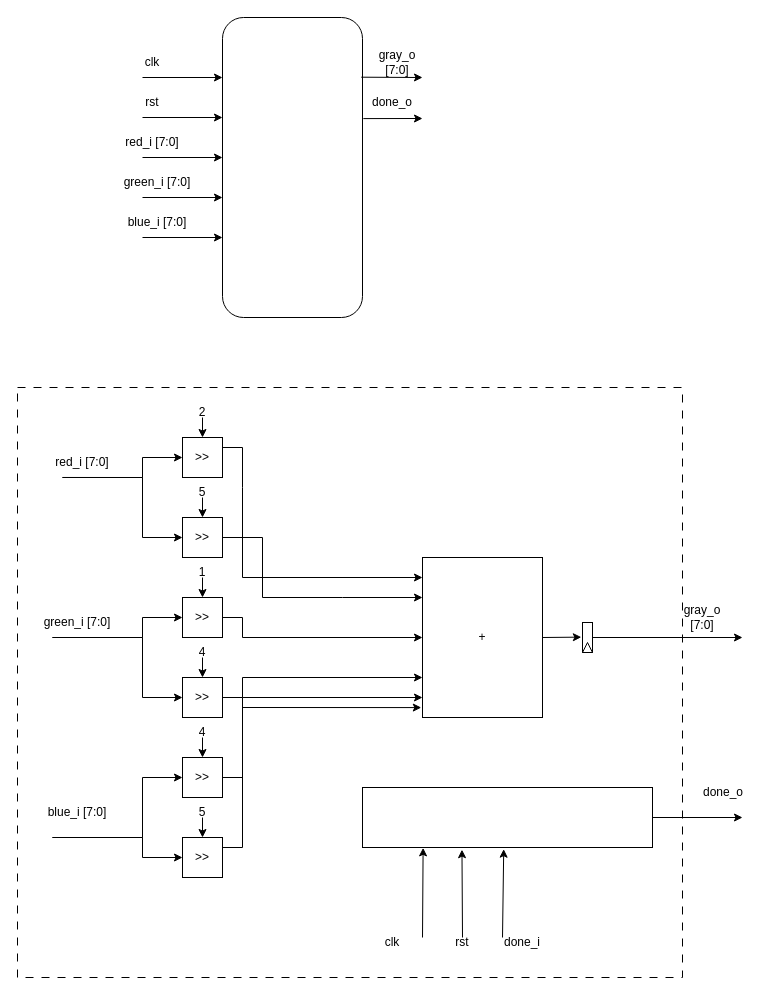
This 771x995 diagram has some shape labels left out. The box of each missing label's shape, as (x1, y1, x2, y2) in pixels:
Controller: (362, 786, 652, 848)
RGB2Gray: (222, 16, 362, 318)
